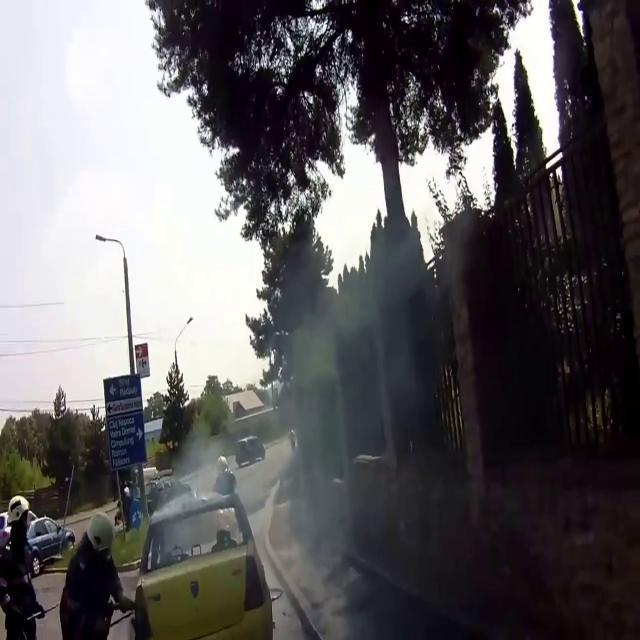Smoke: (199, 210, 461, 640)
